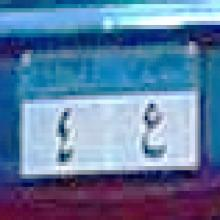4: (52, 104, 78, 167)
ain: (138, 98, 168, 162)
